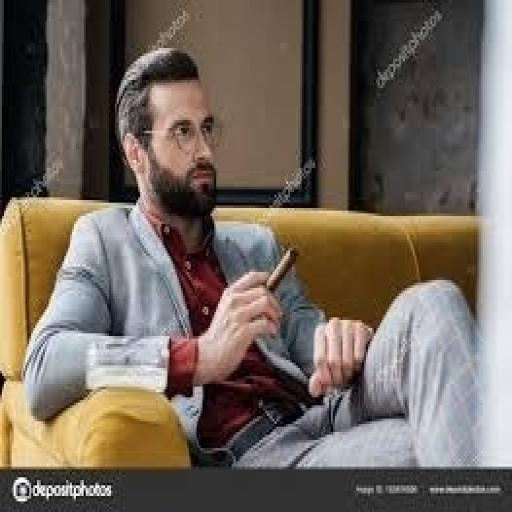sitting: (19, 43, 483, 469)
